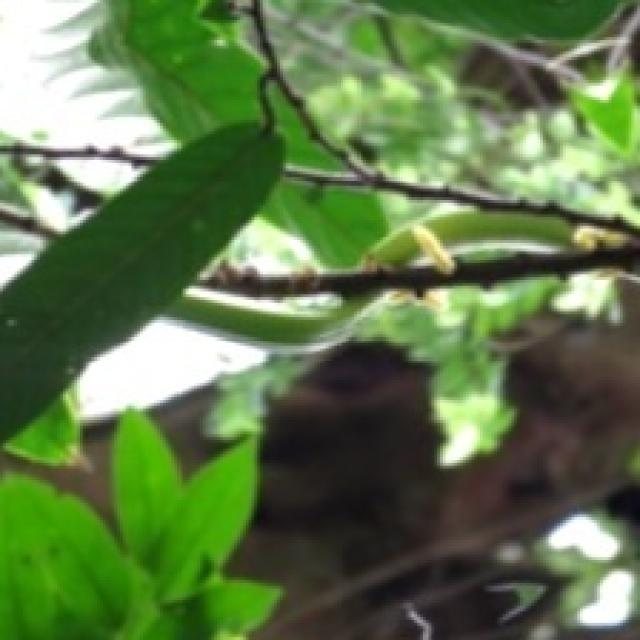red-tailed green ratsnake: (169, 290, 368, 343), (420, 210, 571, 246), (366, 226, 422, 266)
